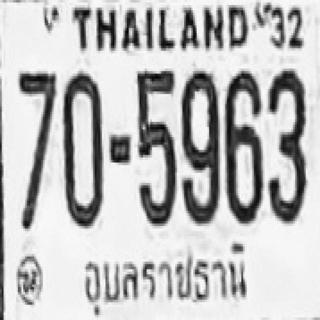N00: (63, 70, 102, 227)
N03: (266, 68, 306, 221)
N05: (136, 67, 175, 225)
N06: (224, 68, 261, 221)
N07: (19, 69, 56, 218), (19, 70, 56, 189), (19, 68, 56, 168)
N09: (182, 68, 219, 224)
P72: (73, 238, 250, 320)
